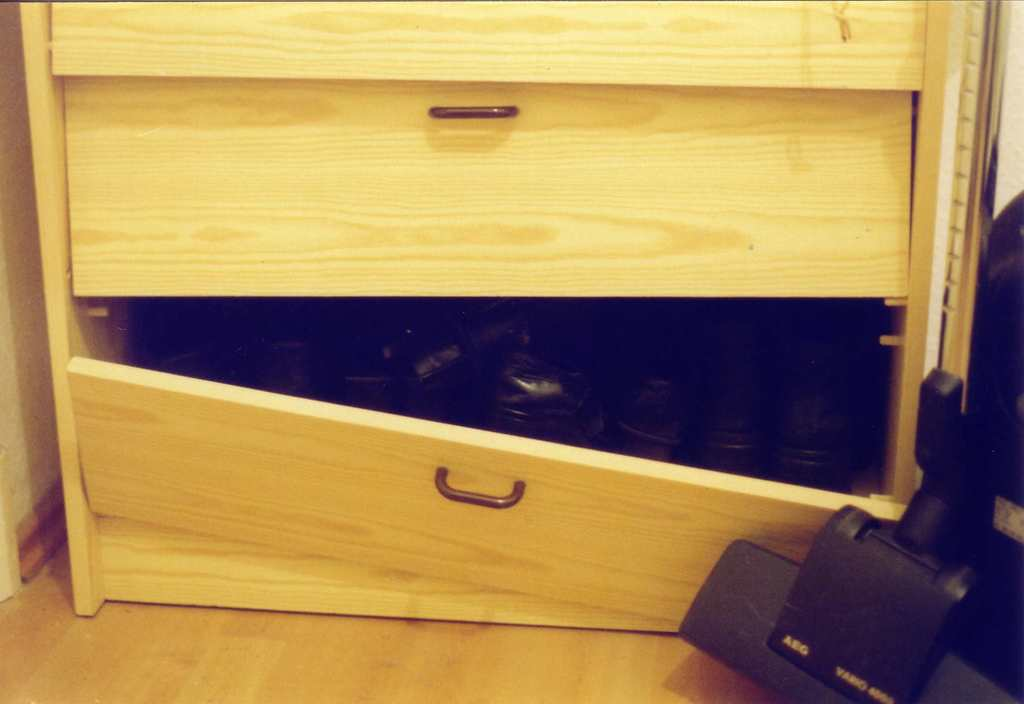cabinet door: (65, 85, 894, 288), (83, 409, 796, 607)
handle: (434, 465, 535, 513), (426, 105, 519, 129)
